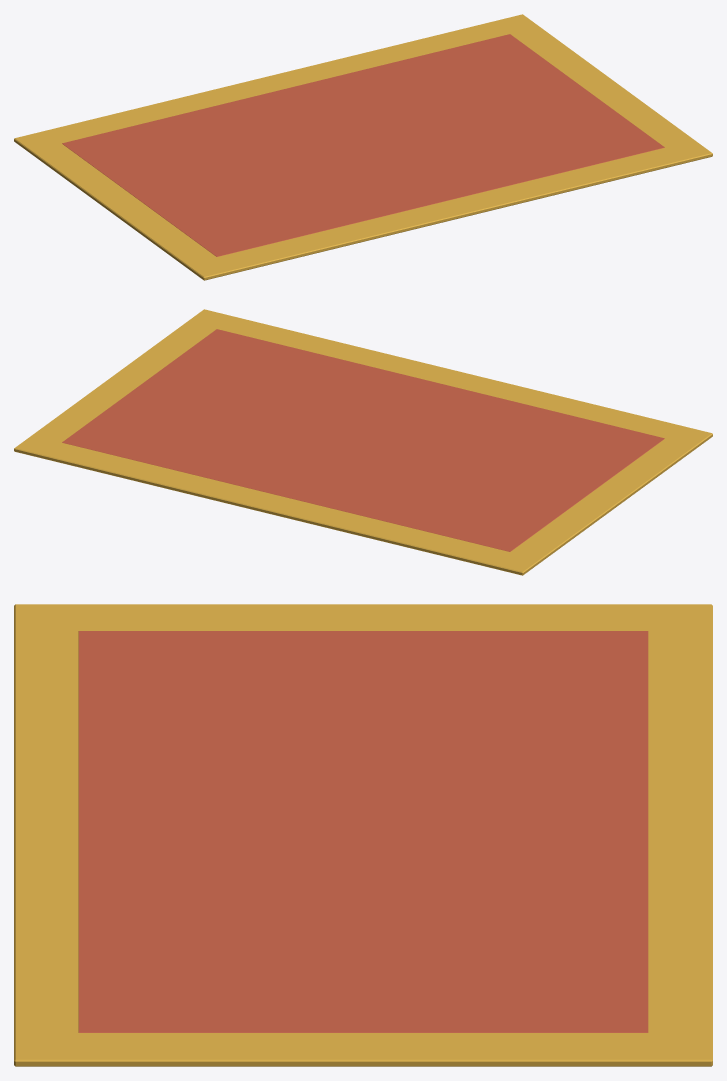
The model's file is rug_basic.glb.
3 renders of one model, top to bottom at view 1: azimuth 30°, elevation 25°; view 2: azimuth 150°, elevation 25°; view 3: azimuth 270°, elevation 25°, orthographic. The views are drawn at different scales.
Visible parts, largest first — view 1: rug_inner, rug; view 2: rug_inner, rug; view 3: rug_inner, rug.
Part boxes in pixels (x1=…): rug_inner: x1=62, y1=34, x2=664, y2=256; rug: x1=14, y1=14, x2=712, y2=280; rug_inner: x1=62, y1=329, x2=664, y2=551; rug: x1=14, y1=309, x2=712, y2=575; rug_inner: x1=78, y1=631, x2=648, y2=1032; rug: x1=14, y1=604, x2=712, y2=1066.
Size of the model in its own units: 1.7 by 0.0128 by 1.1.
